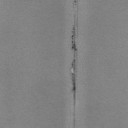slag inclusion: (72, 26, 78, 52), (72, 73, 76, 98), (72, 58, 76, 70)
